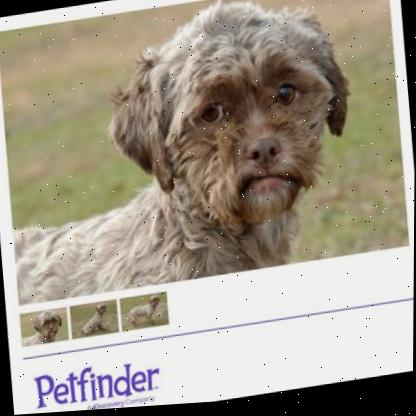dog: (0, 0, 371, 306)
person: (180, 55, 332, 226)
